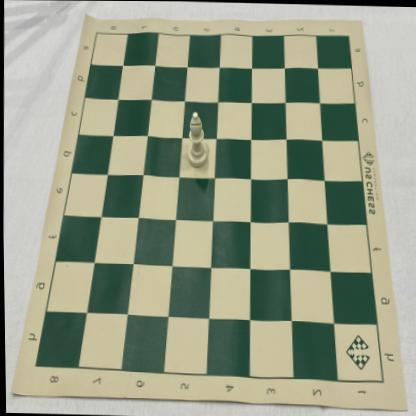white-bishop: (185, 110, 208, 169)
